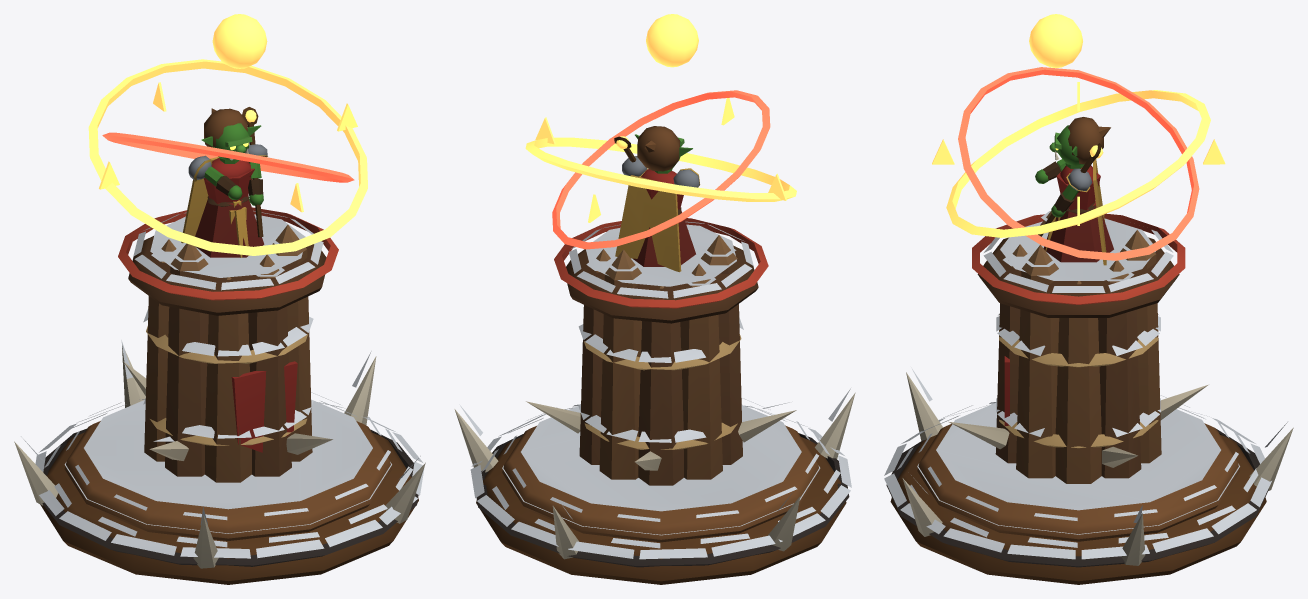
File: horde-9.glb
3 renders of one model, left to right at view 1: azimuth 30°, elevation 25°; view 2: azimuth 150°, elevation 25°; view 3: azimuth 270°, elevation 25°, orthographic. The views are drawn at different scales.
Visible parts, largest first — view 1: horde_9_peint, Anneaux_lueur, Buste_peint, AnneauB, OrbeMagique, Crane_peint, BrasG_peint, BrasD_peint; view 2: horde_9_peint, Anneaux_lueur, Buste_peint, AnneauB, OrbeMagique, Crane_peint; view 3: horde_9_peint, Anneaux_lueur, AnneauB, Buste_peint, OrbeMagique, Crane_peint, BrasD_peint.
Boxes of the visible parts, x1,y1,x2,y2 form: horde_9_peint: [14, 207, 425, 584]; Anneaux_lueur: [88, 59, 367, 255]; Buste_peint: [181, 157, 264, 257]; AnneauB: [102, 132, 354, 182]; OrbeMagique: [212, 14, 267, 68]; Crane_peint: [201, 108, 261, 160]; BrasG_peint: [188, 155, 242, 199]; BrasD_peint: [245, 144, 267, 205]; horde_9_peint: [454, 218, 855, 584]; Anneaux_lueur: [525, 98, 796, 222]; Buste_peint: [615, 169, 695, 272]; AnneauB: [552, 90, 770, 249]; OrbeMagique: [646, 14, 698, 67]; Crane_peint: [635, 126, 692, 171]; horde_9_peint: [884, 210, 1293, 584]; Anneaux_lueur: [932, 82, 1225, 237]; AnneauB: [958, 67, 1199, 260]; Buste_peint: [1043, 159, 1113, 265]; OrbeMagique: [1029, 14, 1082, 68]; Crane_peint: [1049, 117, 1110, 165]; BrasD_peint: [1051, 168, 1092, 217].
Size of the model in its own units: 0.9055 by 1.2 by 0.9075.
